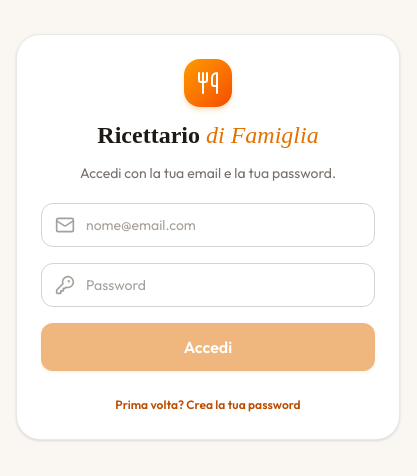
Scenario: Accesso al ricettario › password sbagliata: messaggio chiaro
Type "lluparello3@gmail.com" into the field labelled "email" at (208, 225), box [41,203,375,247]
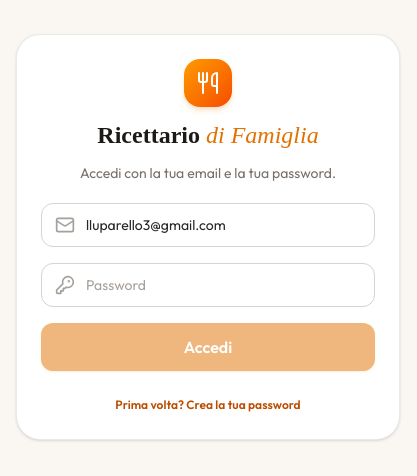
Type "sbagliata" into the password field labelled "Password" at (208, 285), box [41,263,375,307]
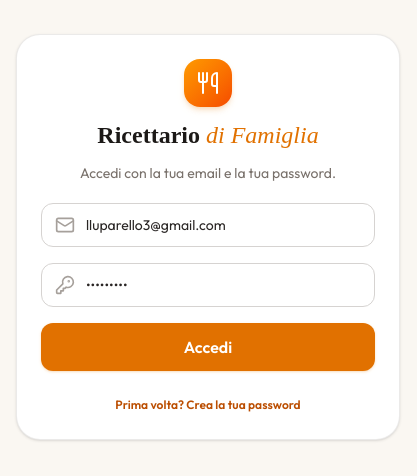
Submit the form named "Email", box [41,203,375,371]
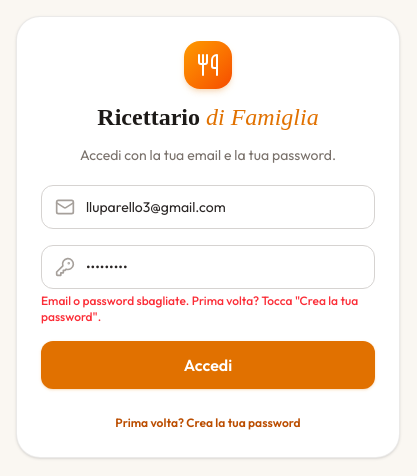
Expected: the text "Email o password sbagliate" is shown, [41,293,358,324]
